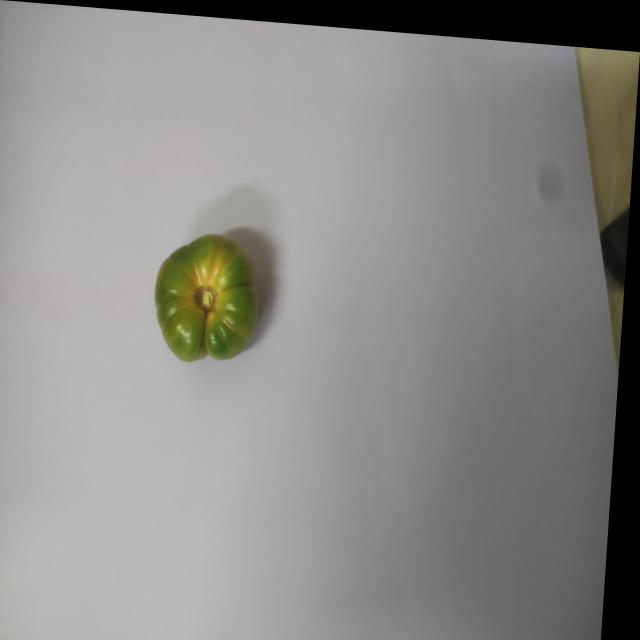yesil: (139, 220, 289, 377)
